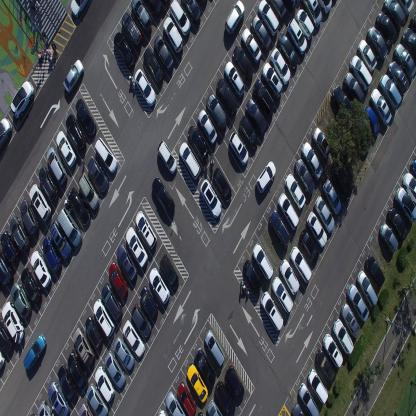car: (56, 207, 82, 247), (72, 325, 96, 367), (125, 225, 148, 268), (260, 290, 284, 331), (151, 176, 175, 217), (199, 177, 222, 219), (133, 67, 157, 107), (48, 219, 72, 259), (10, 80, 34, 120), (23, 332, 47, 372), (94, 136, 118, 175), (69, 187, 92, 227), (77, 172, 100, 212), (28, 182, 51, 222), (1, 300, 24, 340), (277, 191, 300, 231), (347, 283, 370, 323), (148, 265, 170, 306), (116, 242, 138, 283), (179, 140, 201, 181), (356, 268, 378, 309), (186, 362, 208, 403), (46, 146, 68, 186), (269, 209, 291, 249), (93, 297, 115, 337), (104, 349, 126, 389), (286, 17, 308, 57), (66, 351, 88, 391), (301, 141, 323, 181), (210, 166, 233, 204), (134, 211, 157, 249), (122, 319, 145, 357), (252, 78, 275, 116), (289, 246, 312, 284), (57, 363, 78, 404), (87, 155, 109, 194), (74, 97, 96, 136), (38, 165, 60, 204), (153, 34, 175, 73), (332, 83, 354, 122), (370, 87, 392, 126), (9, 282, 32, 319), (252, 241, 273, 281), (30, 249, 51, 289), (205, 92, 227, 130), (113, 30, 135, 68), (271, 276, 293, 314), (20, 266, 42, 304), (216, 76, 238, 114), (261, 60, 283, 98), (284, 172, 306, 210), (350, 53, 372, 91), (394, 42, 416, 80), (379, 74, 402, 110), (197, 107, 218, 146), (46, 381, 70, 415), (64, 114, 86, 151), (142, 47, 164, 84), (169, 0, 191, 37), (232, 43, 254, 80), (240, 27, 262, 64), (245, 97, 267, 134), (332, 317, 354, 354), (194, 348, 216, 385), (41, 234, 61, 274), (270, 46, 290, 86), (278, 31, 298, 71), (187, 123, 208, 161), (120, 10, 141, 48), (101, 282, 122, 320), (224, 60, 245, 98), (314, 195, 335, 233), (306, 209, 327, 247), (113, 335, 135, 371), (203, 330, 225, 366), (250, 14, 272, 50), (258, 0, 280, 36), (278, 258, 300, 294), (395, 185, 415, 224), (130, 301, 151, 338), (228, 130, 249, 167), (367, 25, 388, 62), (224, 364, 245, 401), (56, 130, 76, 168), (158, 253, 178, 291), (163, 15, 183, 53), (9, 214, 29, 252), (294, 157, 314, 195), (297, 382, 320, 415), (224, 0, 245, 36), (94, 365, 115, 401), (340, 302, 361, 338), (322, 332, 343, 368), (214, 380, 235, 416), (255, 160, 277, 194), (387, 60, 409, 94), (386, 206, 408, 240), (299, 227, 319, 264), (316, 347, 336, 384), (308, 367, 328, 404), (63, 59, 84, 94), (156, 139, 177, 174), (130, 0, 152, 33), (242, 258, 262, 294), (238, 114, 258, 150), (364, 254, 385, 288), (86, 383, 108, 415), (108, 261, 127, 298), (323, 178, 342, 215), (334, 160, 352, 199), (176, 380, 196, 415), (20, 198, 38, 236), (84, 315, 104, 349), (344, 70, 364, 104), (357, 38, 377, 72), (312, 127, 332, 160), (376, 9, 396, 42), (379, 221, 398, 255), (383, 0, 405, 29), (139, 284, 157, 319), (302, 0, 323, 30), (296, 6, 314, 40), (0, 231, 18, 264), (362, 104, 380, 135), (0, 316, 14, 355), (402, 171, 416, 209), (166, 390, 186, 415), (402, 27, 416, 60), (180, 0, 200, 23), (0, 117, 13, 150), (70, 0, 90, 20), (267, 0, 287, 20), (0, 255, 12, 287), (142, 0, 162, 16), (37, 400, 55, 416), (206, 398, 222, 416), (317, 0, 332, 16), (398, 0, 414, 15), (78, 402, 93, 416), (283, 0, 297, 13), (292, 402, 305, 416), (410, 11, 416, 33), (0, 350, 6, 370), (410, 157, 416, 177), (157, 408, 168, 416), (196, 408, 206, 416)
